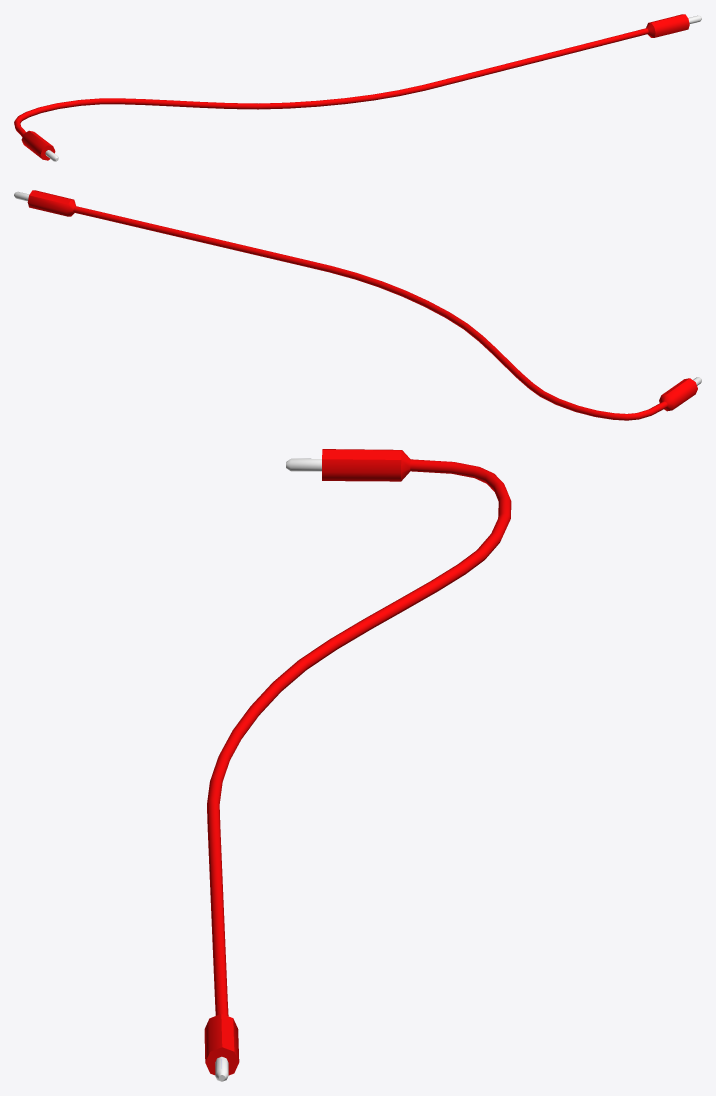
The model's file is ElectroWires08_1.FBX.
The picture shows the model from 3 angles, top to bottom: view 1: azimuth 30°, elevation 25°; view 2: azimuth 150°, elevation 25°; view 3: azimuth 270°, elevation 25°; orthographic projection. The views are drawn at different scales.
Visible parts, largest first — view 1: Wires08; view 2: Wires08; view 3: Wires08.
Part boxes in pixels (x1,y1,x2,y2): Wires08: (14,14,701,161); Wires08: (14,190,701,420); Wires08: (204,449,511,1081).
Size of the model in its own units: 119 by 2.77 by 24.96.
